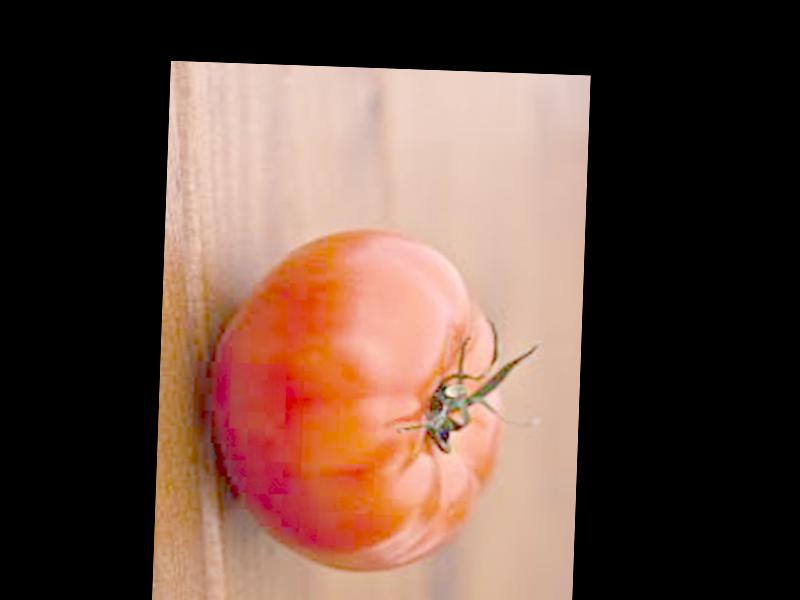Tomato: (205, 221, 509, 575)
